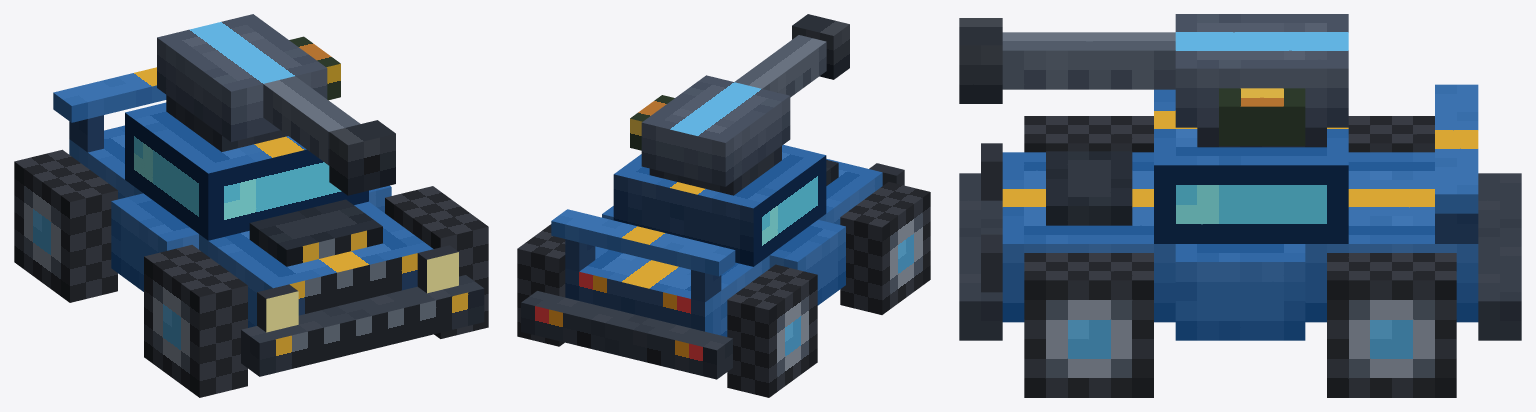
File: PlayerCar.fbx
The picture shows the model from 3 angles, left to right: view 1: azimuth 30°, elevation 25°; view 2: azimuth 150°, elevation 25°; view 3: azimuth 270°, elevation 25°; orthographic projection. The views are drawn at different scales.
Visible parts, largest first — view 1: cabin, turret_base, wheel_fr_tire, wheel_rr_tire, bumper_front, chassis_front, hood_intake, wheel_fl_tire, chassis_mid, turret_barrel, turret_muzzle, spoiler_wing (+6 smaller); view 2: cabin, turret_base, wheel_rr_tire, wheel_fr_tire, bumper_rear, chassis_rear, spoiler_wing, chassis_mid, wheel_rl_tire, turret_barrel, chassis_front, turret_muzzle (+5 smaller); view 3: cabin, wheel_fl_tire, wheel_rl_tire, turret_base, chassis_rear, chassis_mid, chassis_front, turret_barrel, bumper_rear, hood_intake, spoiler_wing, bumper_front (+8 smaller).
Boxes of the visible parts, <box> form: cabin: <box>125,102,368,240</box>; turret_base: <box>157,14,327,141</box>; wheel_fr_tire: <box>144,245,247,397</box>; wheel_rr_tire: <box>14,149,117,302</box>; bumper_front: <box>241,275,484,376</box>; chassis_front: <box>199,201,433,327</box>; hood_intake: <box>249,199,382,266</box>; wheel_fl_tire: <box>385,186,488,338</box>; chassis_mid: <box>111,185,391,291</box>; turret_barrel: <box>263,76,360,165</box>; turret_muzzle: <box>329,120,395,195</box>; spoiler_wing: <box>53,67,166,122</box>; cabin: <box>613,144,826,266</box>; turret_base: <box>641,75,790,186</box>; wheel_rr_tire: <box>727,264,817,397</box>; wheel_fr_tire: <box>840,182,930,314</box>; bumper_rear: <box>521,291,732,379</box>; chassis_rear: <box>565,246,769,336</box>; spoiler_wing: <box>551,209,735,276</box>; chassis_mid: <box>602,206,845,305</box>; wheel_rl_tire: <box>517,224,565,346</box>; turret_barrel: <box>734,35,826,97</box>; chassis_front: <box>818,158,882,224</box>; turret_muzzle: <box>792,14,849,79</box>; cabin: <box>1154,89,1348,243</box>; wheel_fl_tire: <box>1024,253,1153,397</box>; wheel_rl_tire: <box>1327,253,1456,397</box>; turret_base: <box>1175,14,1348,127</box>; chassis_rear: <box>1305,152,1478,322</box>; chassis_mid: <box>1175,244,1305,340</box>; chassis_front: <box>1002,152,1175,322</box>; turret_barrel: <box>1002,32,1175,89</box>; bumper_rear: <box>1478,173,1521,340</box>; hood_intake: <box>1046,151,1132,225</box>; spoiler_wing: <box>1435,84,1478,213</box>; bumper_front: <box>959,173,1002,340</box>.
Size of the model in its own units: 112 by 90.62 by 162.
1 material, 1 textured.
